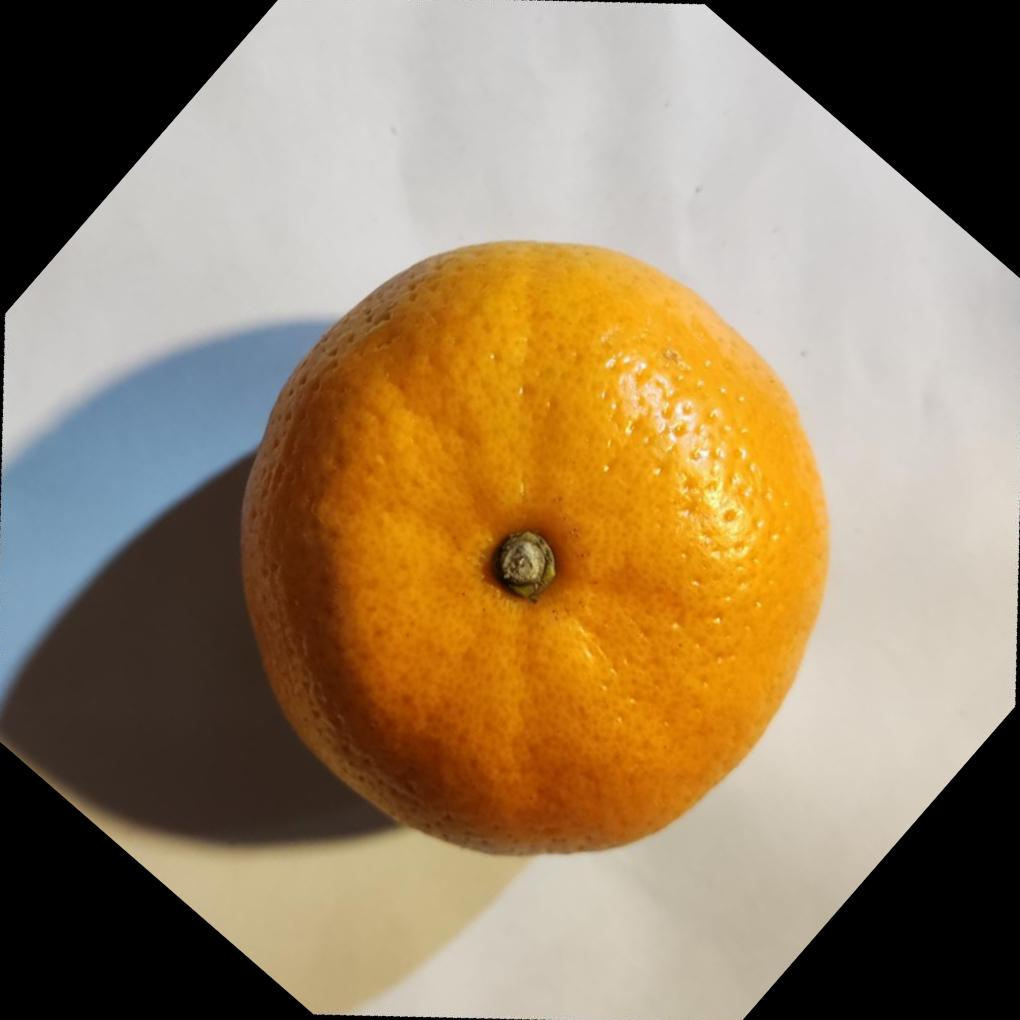FreshGuava: (237, 239, 836, 861)
